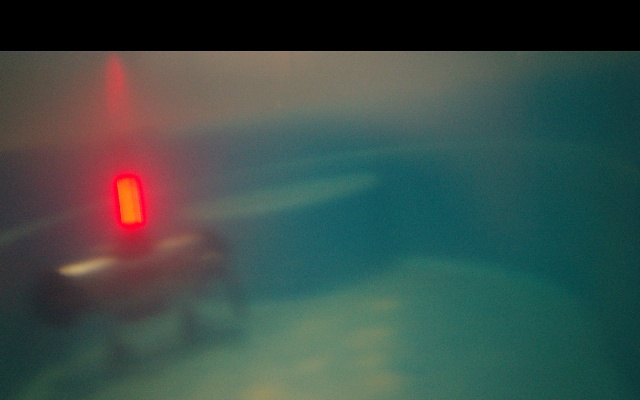red: (116, 177, 144, 233)
